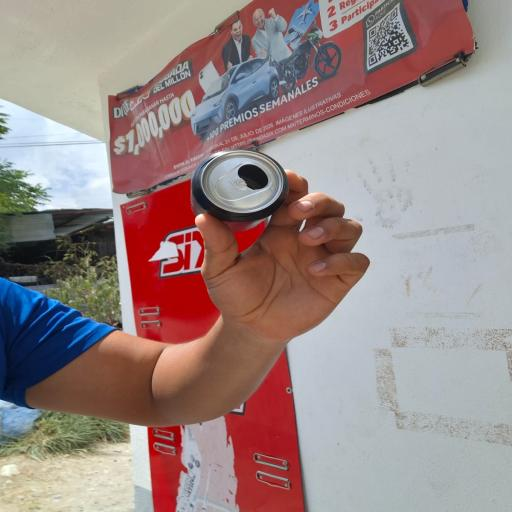LATA: (159, 142, 322, 242)
